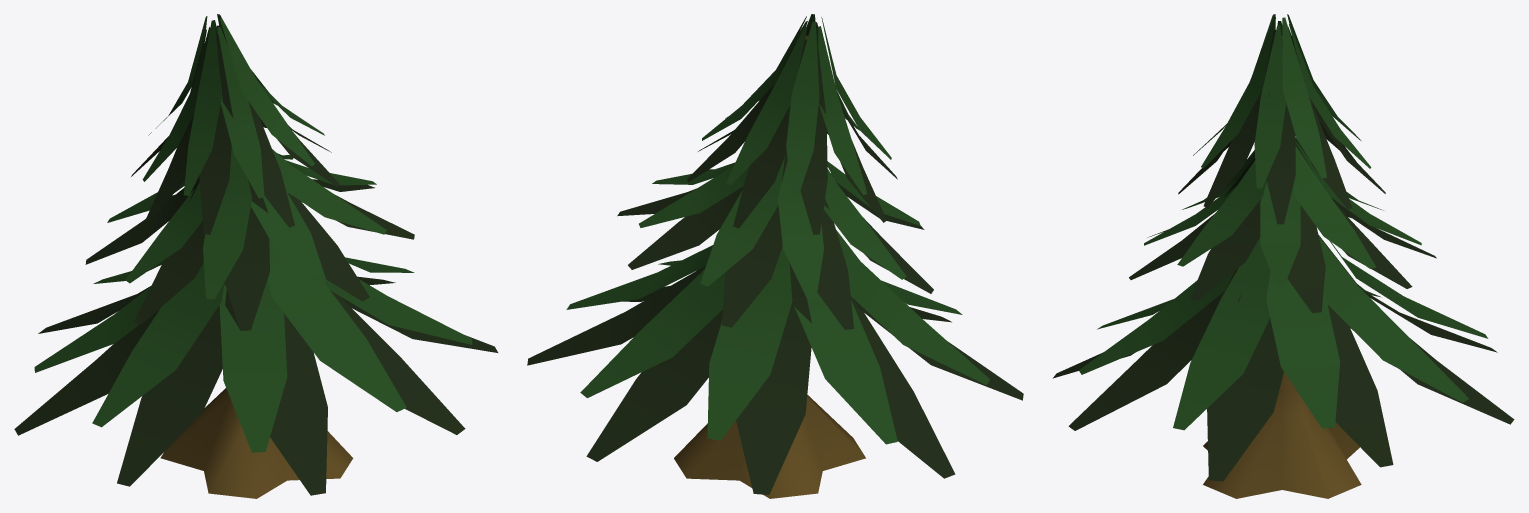
File: Fir4_1.fbx
3 views of the same model, side by side, from view 1: azimuth 30°, elevation 25°; view 2: azimuth 150°, elevation 25°; view 3: azimuth 270°, elevation 25° (orthographic). The views are drawn at different scales.
Visible parts, largest first — view 1: Fir1; view 2: Fir1; view 3: Fir1.
Part boxes in pixels (x1,y1,x2,y2): Fir1: [14, 14, 498, 498]; Fir1: [527, 14, 1023, 498]; Fir1: [1052, 14, 1514, 498].
Size of the model in its own units: 448 by 462 by 450.
